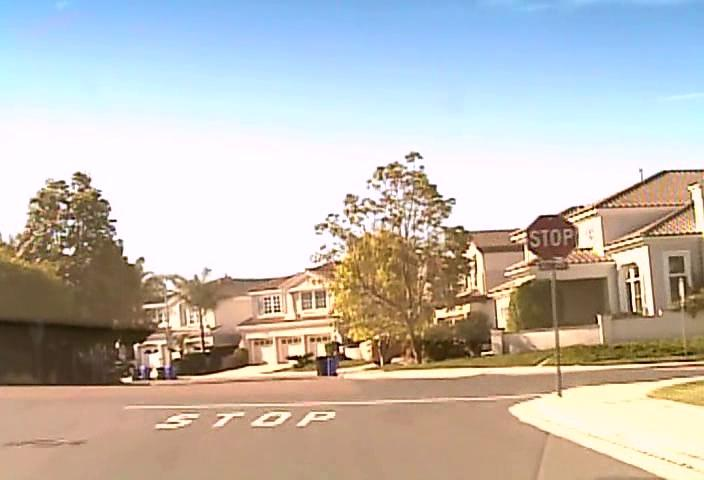stop: (525, 214, 578, 261)
